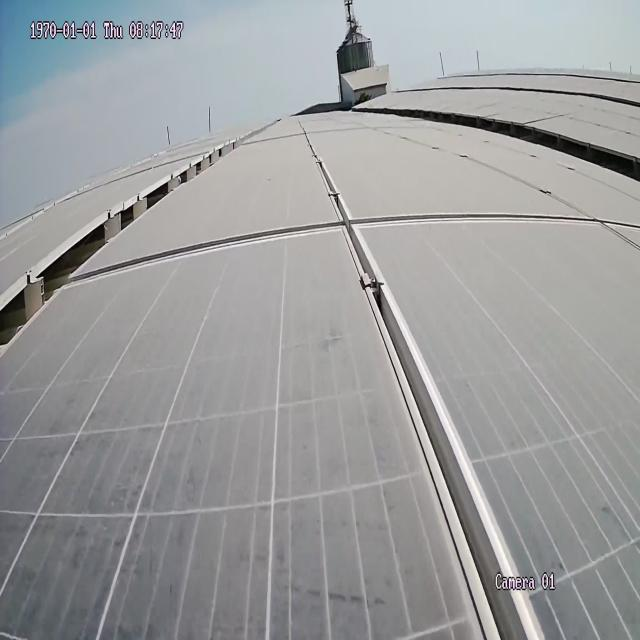interior panel: (304, 137, 543, 624), (119, 218, 324, 283), (369, 210, 628, 231)
outher panel: (4, 148, 234, 353), (388, 104, 633, 182)
